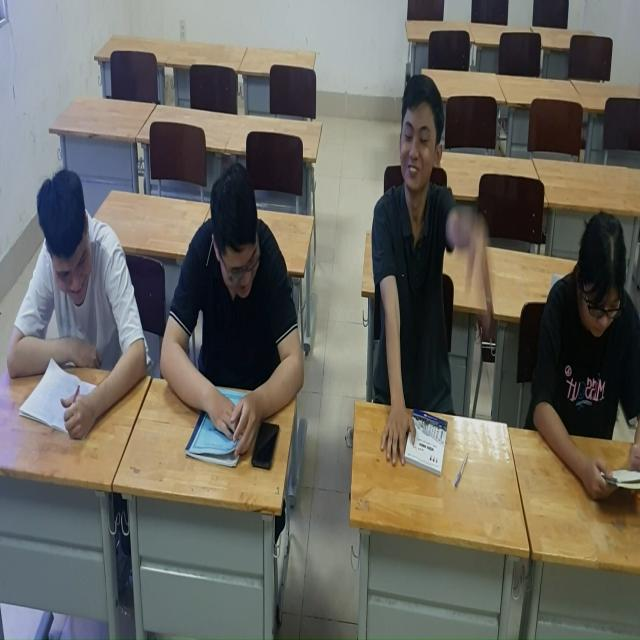read: (161, 149, 311, 459), (6, 156, 156, 461), (514, 204, 640, 502)
